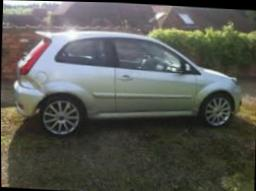Fender: (21, 74, 37, 89)
